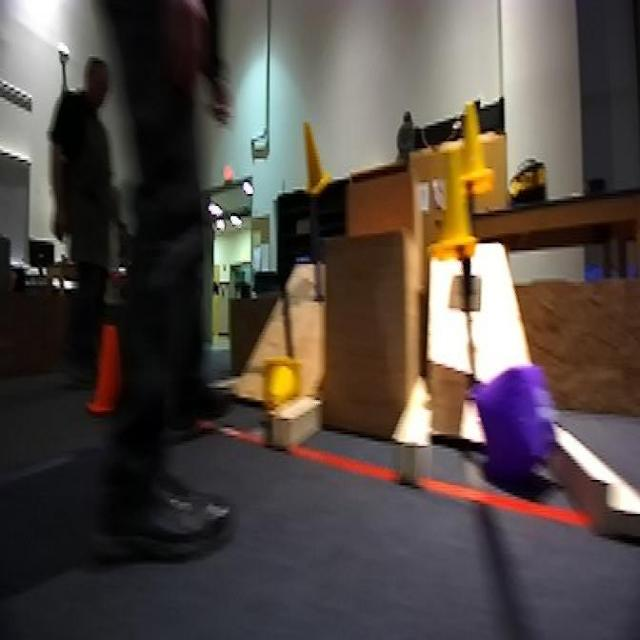frc_cone: (429, 144, 476, 270), (452, 97, 494, 201), (299, 114, 335, 194), (259, 361, 304, 407)
frc_cube: (476, 357, 560, 497)
